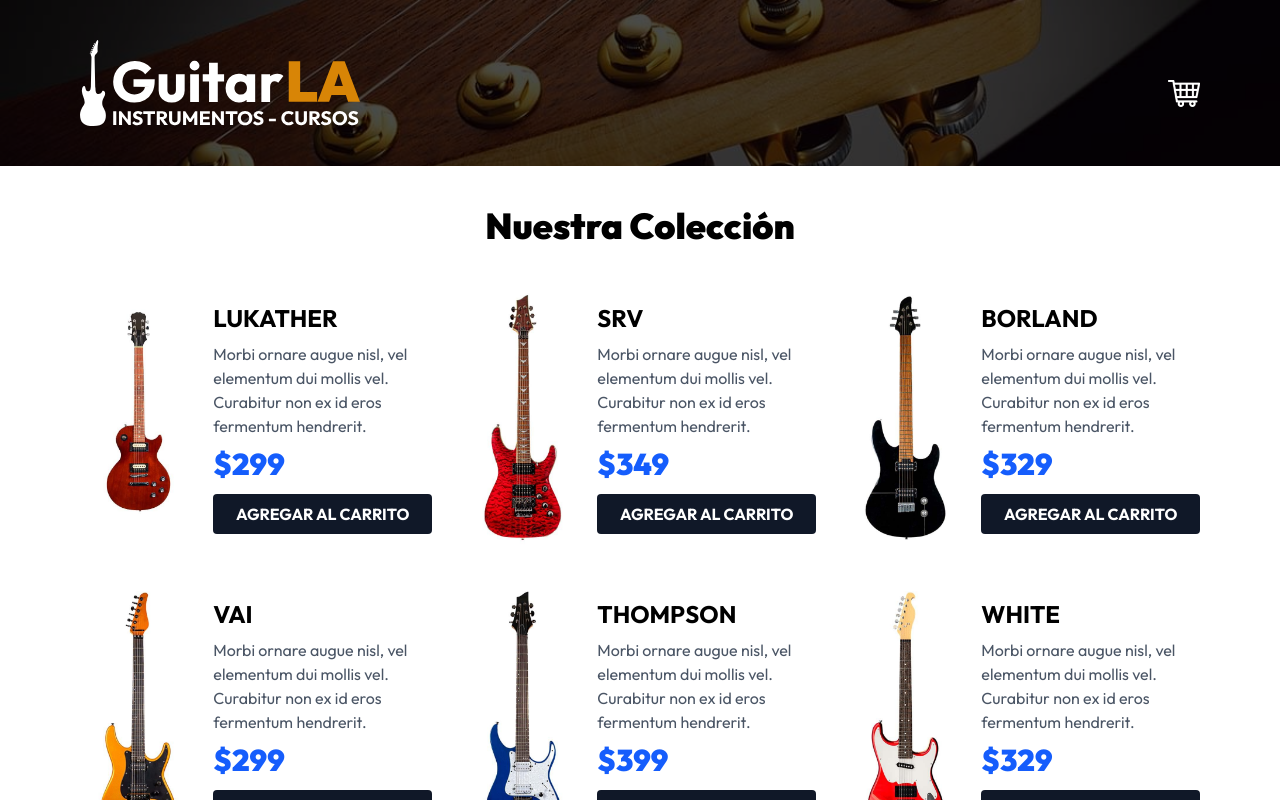
Test: App › adds guitars to the cart and shows them in the panel
Click the button named "Agregar al carrito: Lukather": [323, 514] box [213,494,432,534]
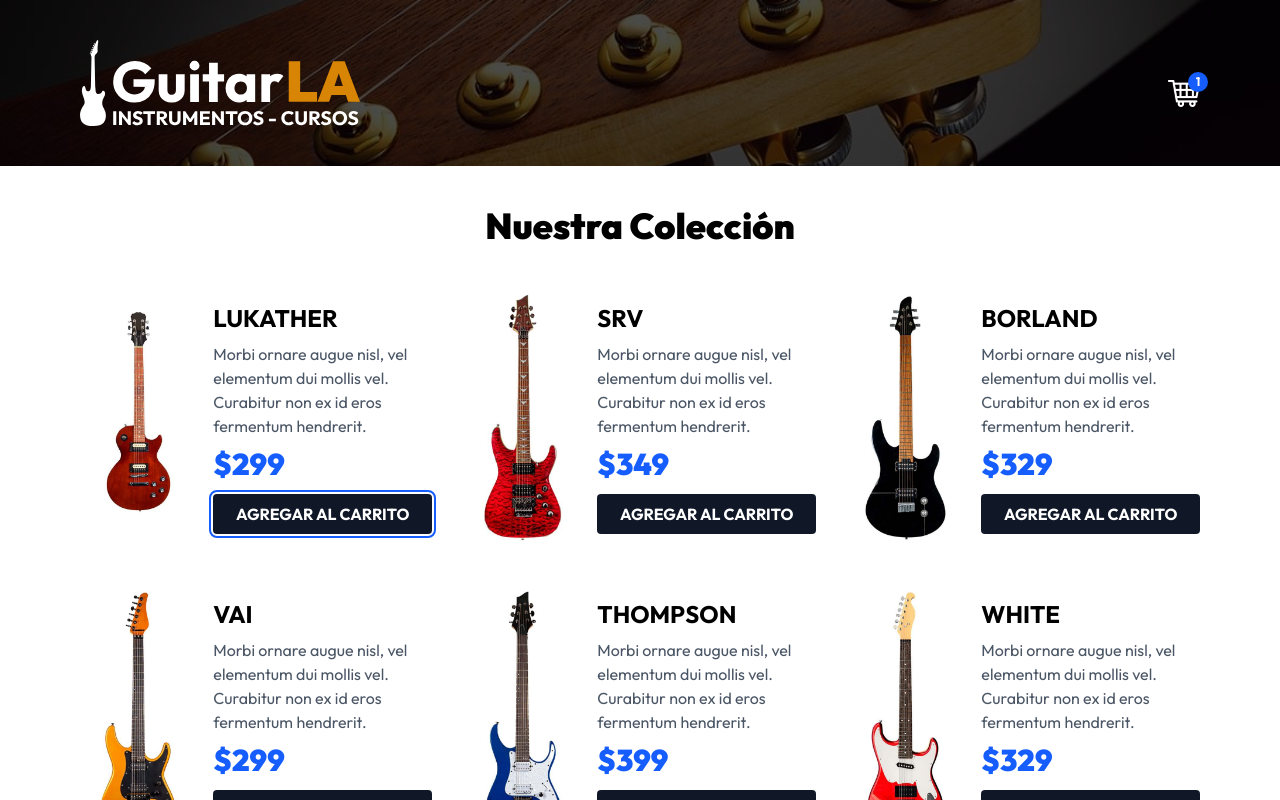
Click the button named "Agregar al carrito: Lukather": [323, 514] box [213,494,432,534]
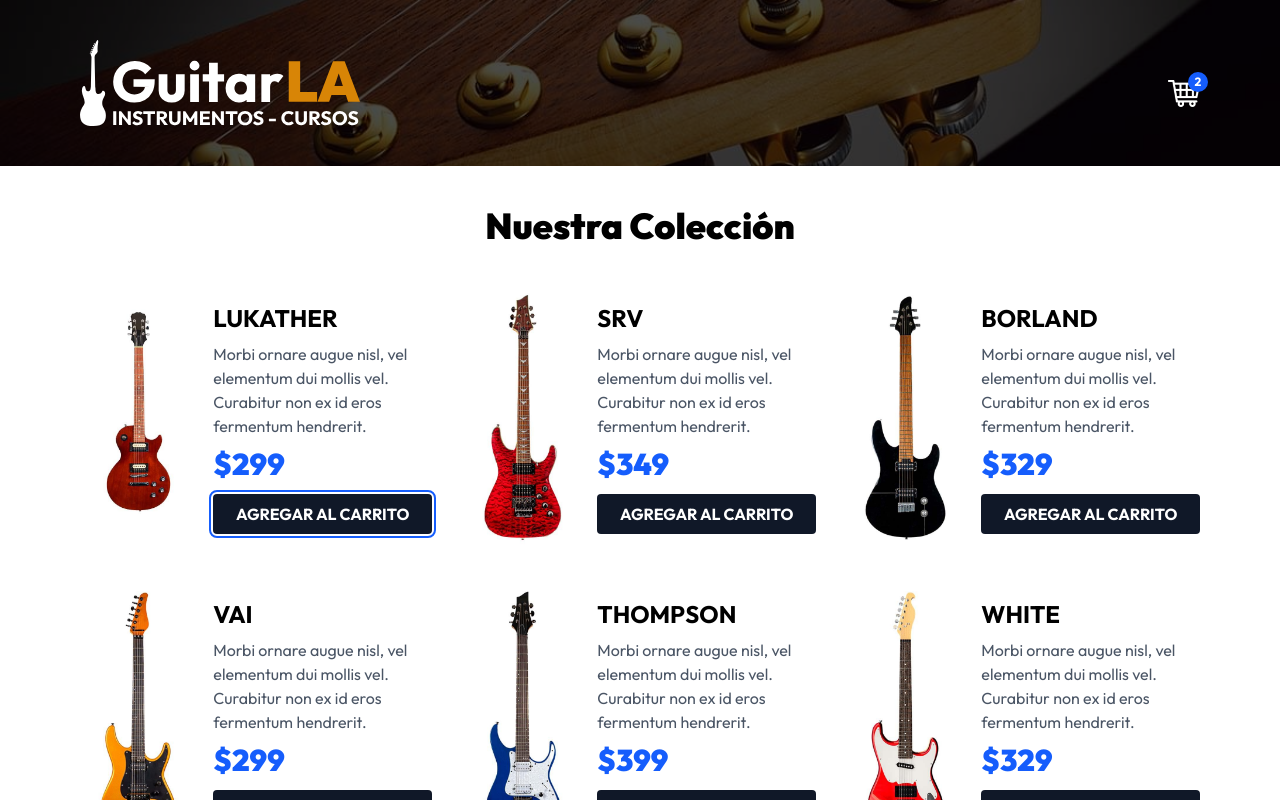
Click the button named "Agregar al carrito: SRV": [707, 514] box [597,494,816,534]
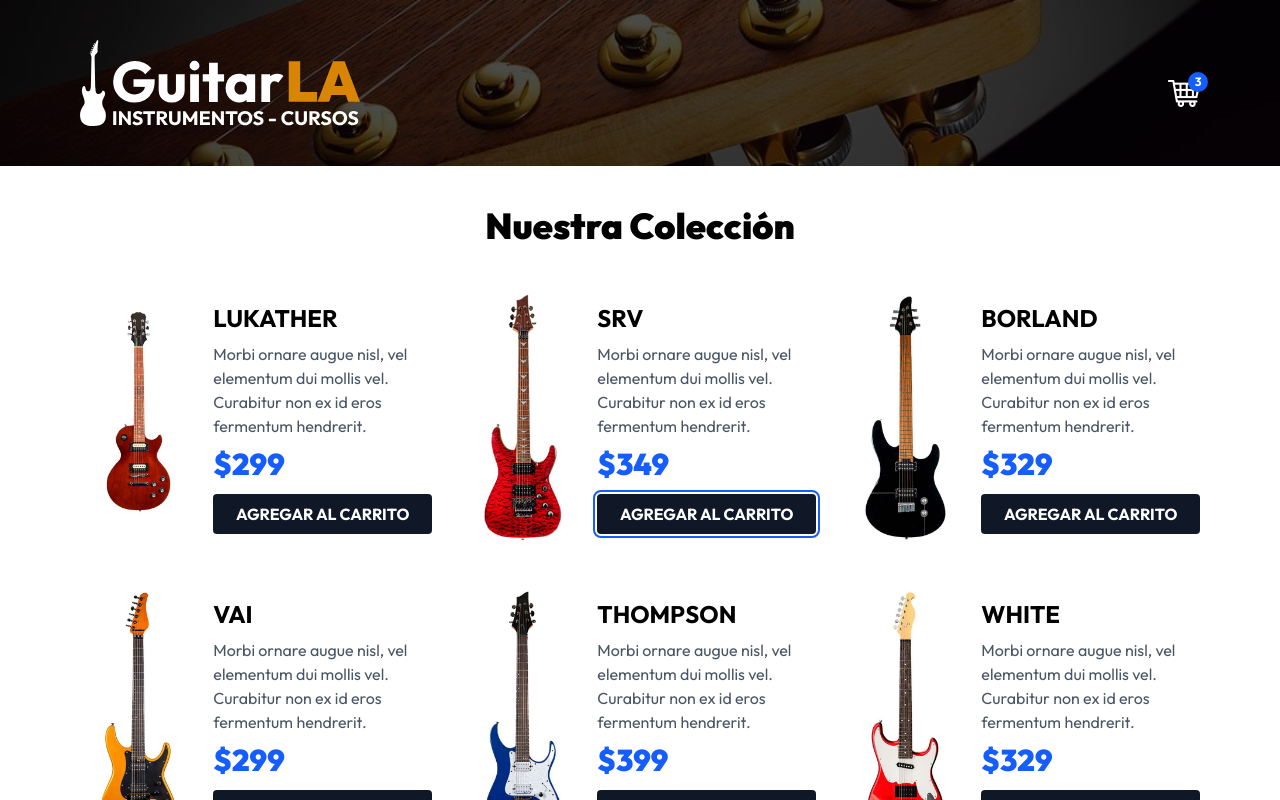
Click the button named "Abrir carrito": [1184, 93] box [1168,80,1200,107]
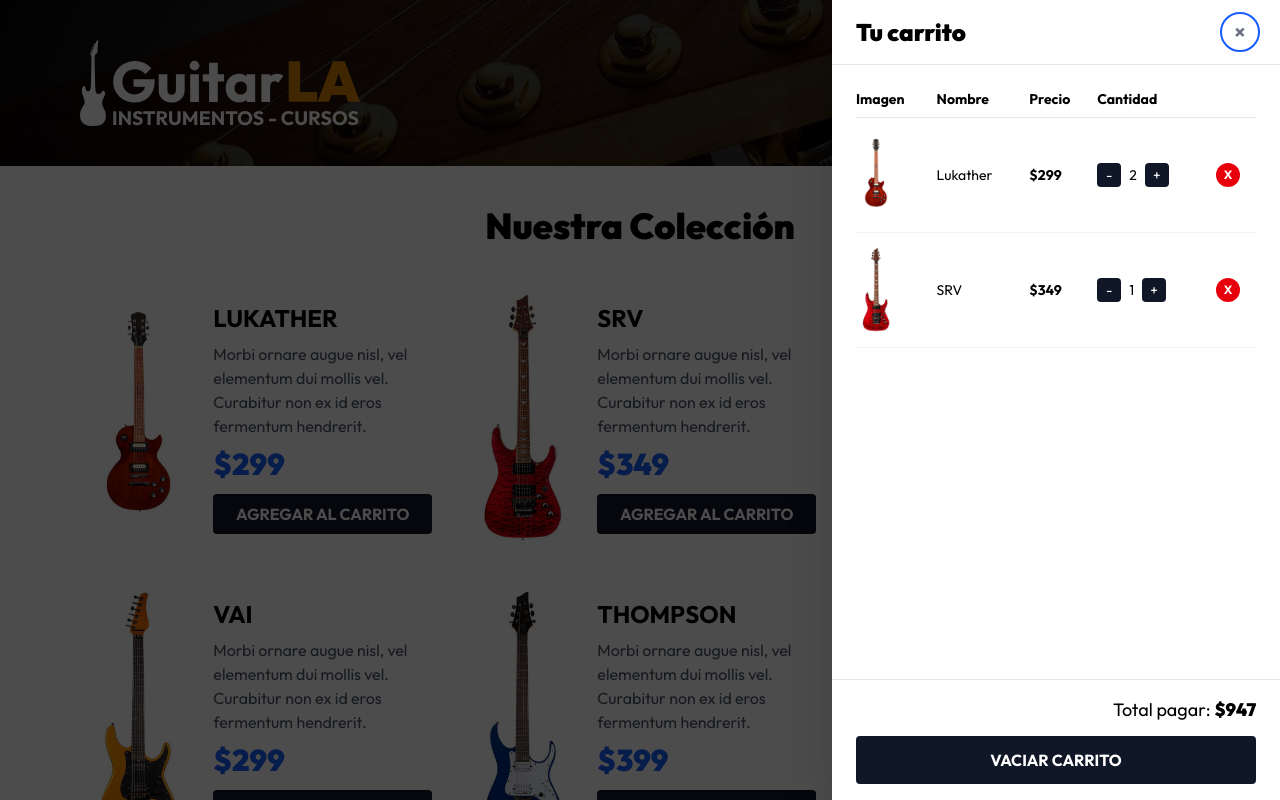
Now the number of rows is 3, box [856,81,1256,118]; [856,118,1256,232]; [856,232,1256,348]
Now the text "$947" is shown, box [1214,698,1256,721]
